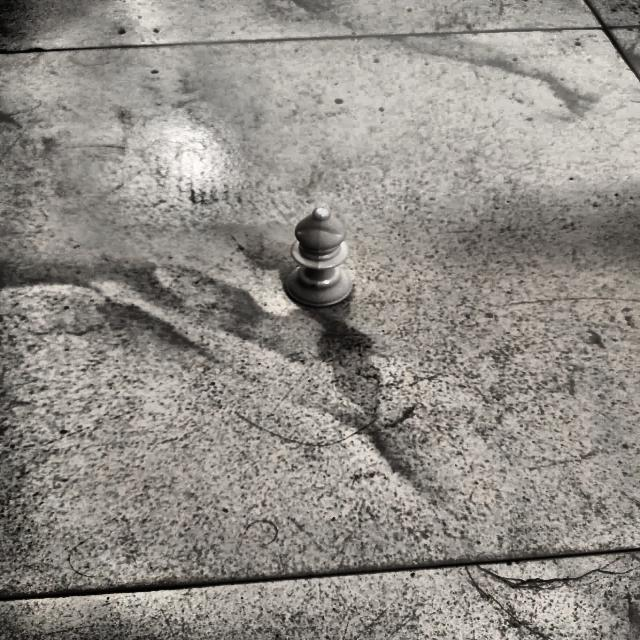WhiteBishop: (281, 206, 357, 308)
